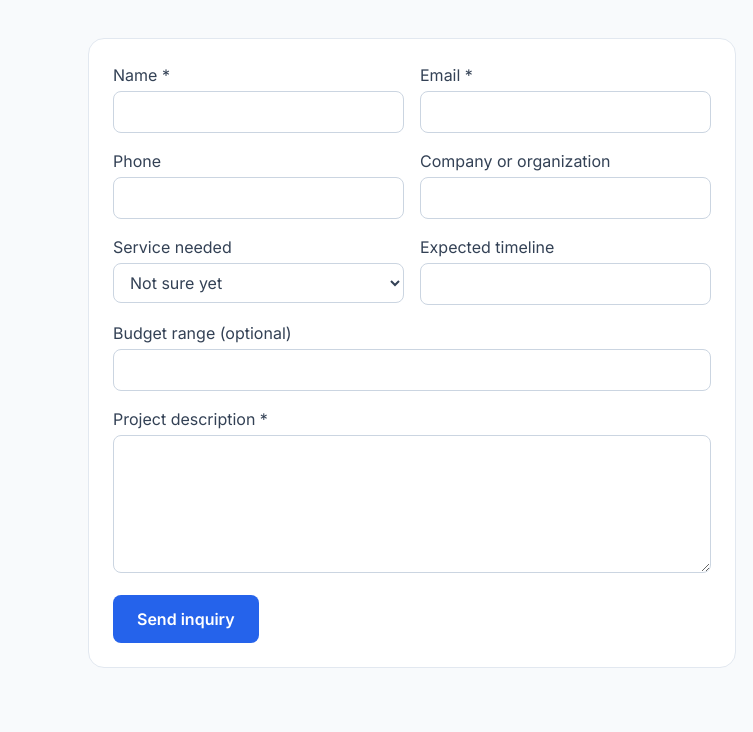
shows validation errors and does not call the inquiry API
(page scrolled)
What coordinates should you click on to do the following:
click the button "Send inquiry"
I would click on:
 (186, 619)
Its box is x1=113 y1=595 x2=259 y2=643.
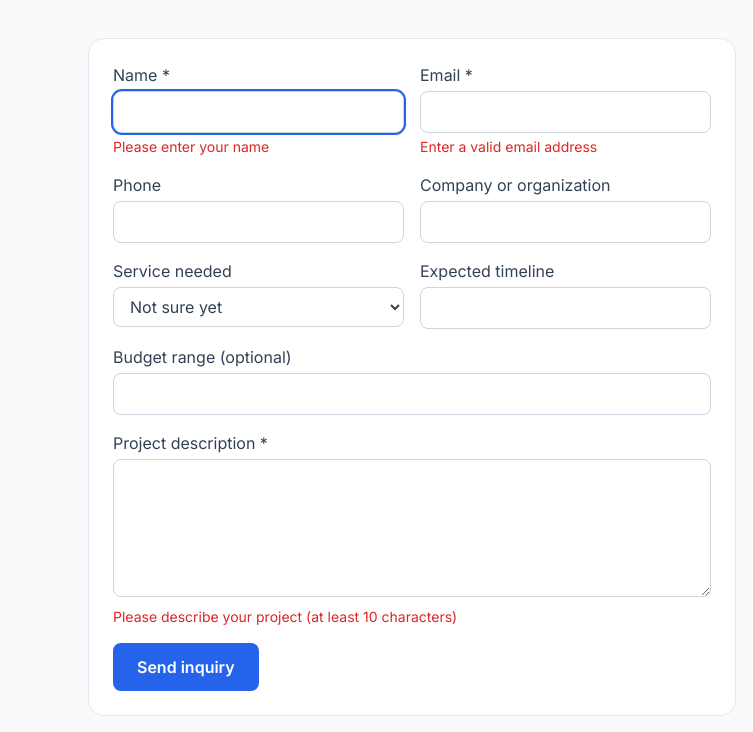
Now the text "Please enter your name" is shown, box x1=113 y1=138 x2=269 y2=155
